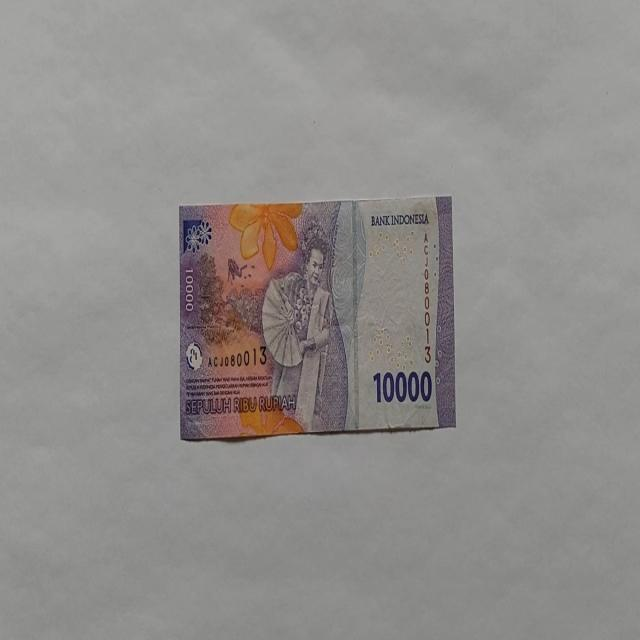sepuluh ribu rupiah: (178, 195, 455, 441)
